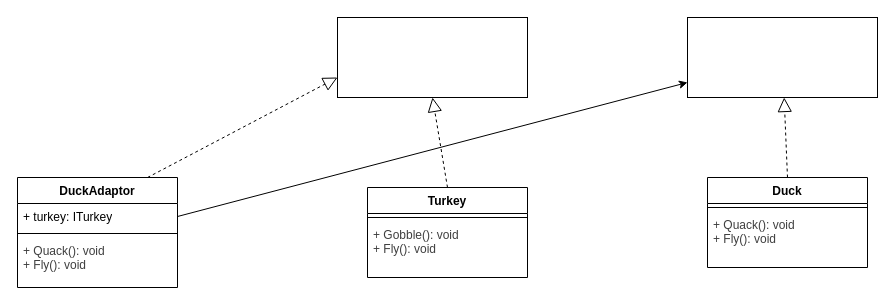
The diagram is 895 pixels wide and 308 high, and some of its shapes have lost their labels. The shapes that lost their labels are listed below. From the top down, each one's centre as x and y in pixels, then its label:
point 432,57: <<Interface>> IDuck + Quack(): void + Fly(): void
point 782,57: <<Interface>> ITurkey + Gobble(): void + Fly(e): void
